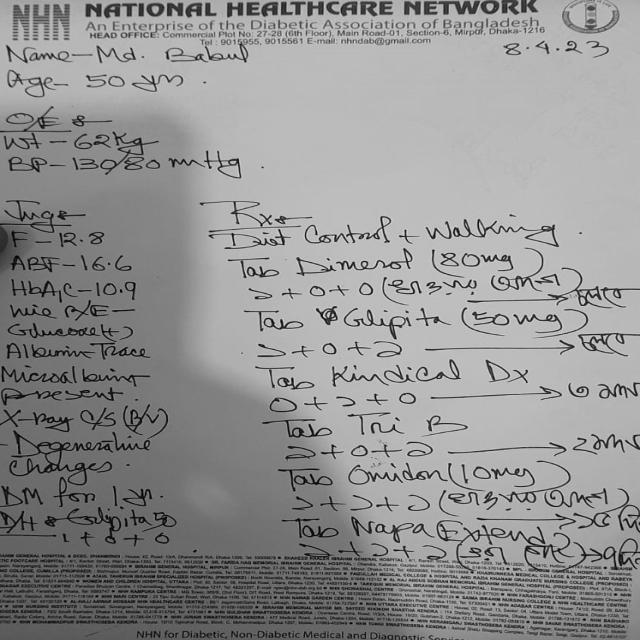medicine: (326, 360, 540, 389), (344, 408, 469, 440), (288, 252, 418, 276), (345, 460, 455, 488), (339, 306, 452, 333), (345, 514, 434, 540)
